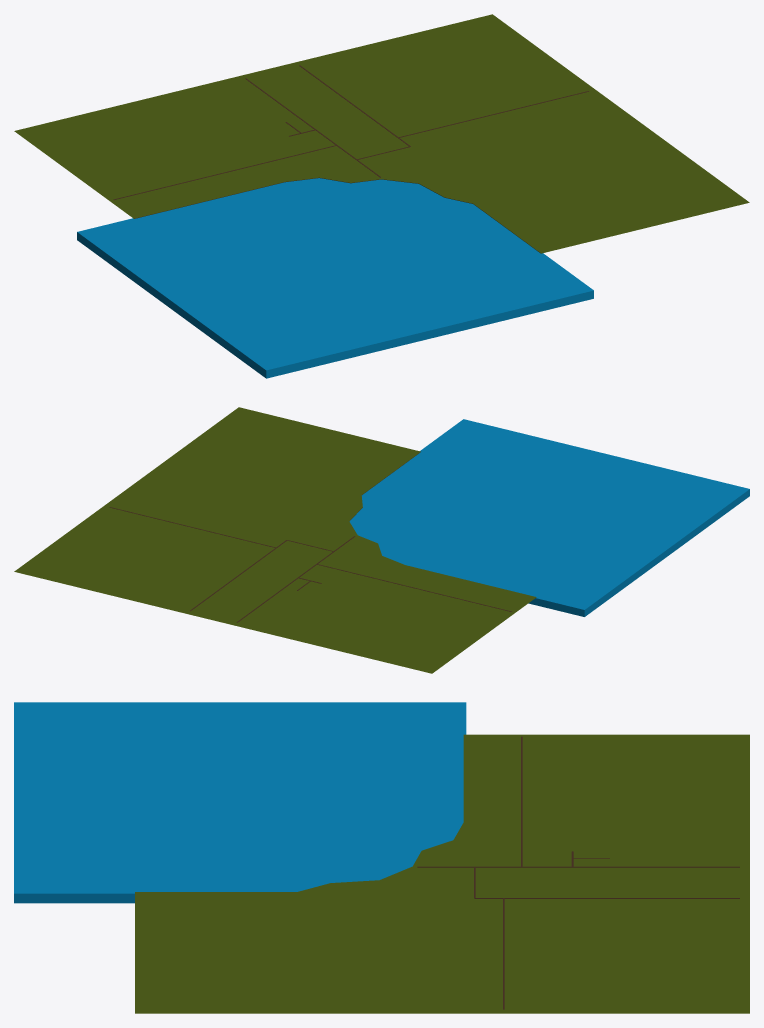
The model's file is Ground.fbx.
3 views of the same model, one above another, from view 1: azimuth 30°, elevation 25°; view 2: azimuth 150°, elevation 25°; view 3: azimuth 270°, elevation 25° (orthographic). The views are drawn at different scales.
Parts seen in each view (by area): view 1: Plane, Cube.002, Road; view 2: Plane, Cube.002, Road; view 3: Plane, Cube.002, Road.
Boxes of the visible parts, bbox=[...] form: Plane: bbox=[14, 14, 749, 253]; Cube.002: bbox=[77, 178, 593, 378]; Road: bbox=[113, 65, 588, 199]; Plane: bbox=[14, 407, 536, 673]; Cube.002: bbox=[349, 419, 749, 616]; Road: bbox=[109, 507, 511, 622]; Plane: bbox=[135, 734, 749, 1013]; Cube.002: bbox=[14, 702, 466, 903]; Road: bbox=[417, 736, 739, 1009].
Bounding box in the file's own units: 81500 × 1260 × 81378.
